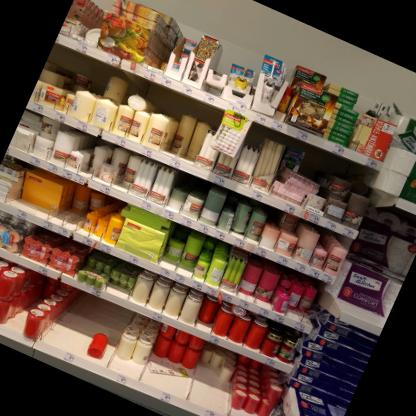empty_space: (37, 282, 107, 358)
